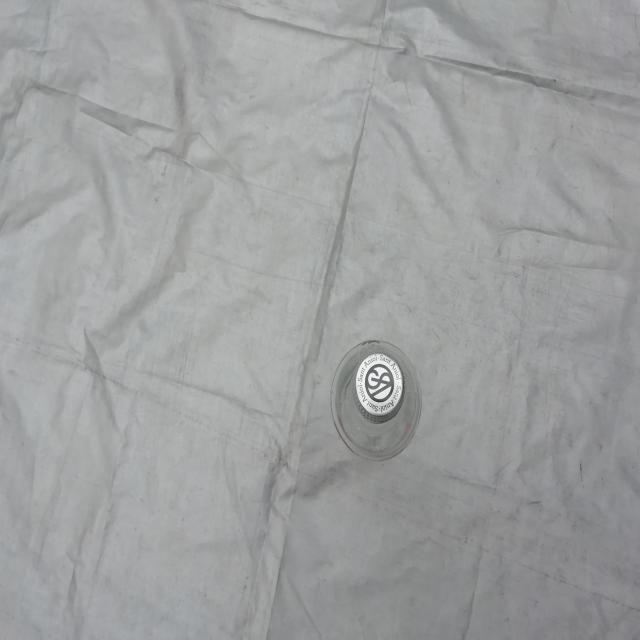glass: (331, 340, 422, 460)
